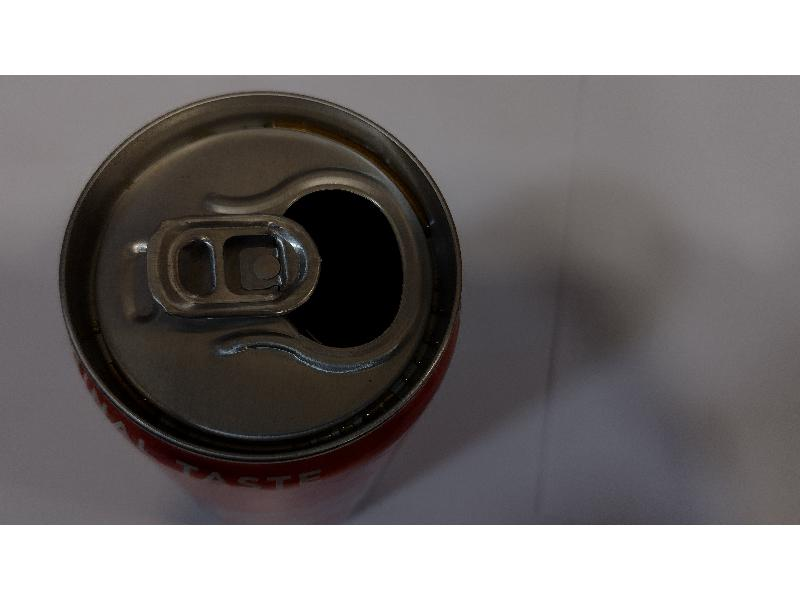can: (52, 82, 480, 508)
